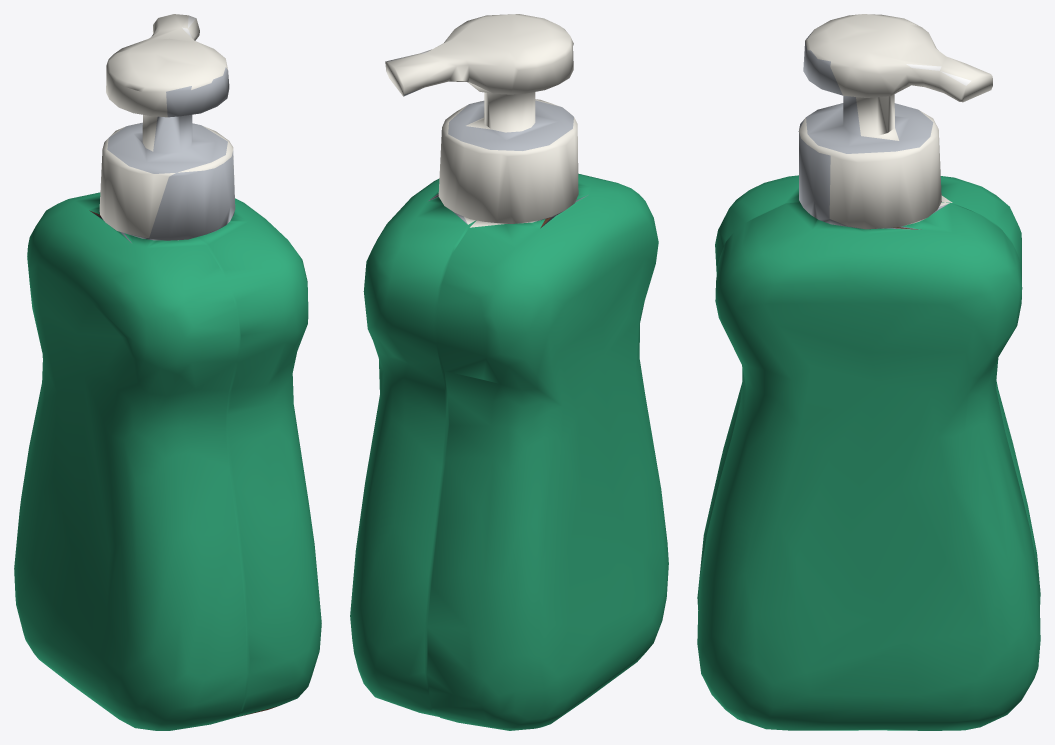
File: SM_detergent_pump.glb
3 views of the same model, side by side, from view 1: azimuth 30°, elevation 25°; view 2: azimuth 150°, elevation 25°; view 3: azimuth 270°, elevation 25° (orthographic). The views are drawn at different scales.
Parts seen in each view (by area): view 1: SM_detergent_pump; view 2: SM_detergent_pump; view 3: SM_detergent_pump.
Boxes of the visible parts, box(x1,y1,x2,y2) form: SM_detergent_pump: box(14, 14, 321, 730); SM_detergent_pump: box(350, 14, 668, 730); SM_detergent_pump: box(697, 14, 1040, 730).
Bounding box in the file's own units: 0.11 × 0.32 × 0.152.
Materials: 1 (1 with a texture image).
